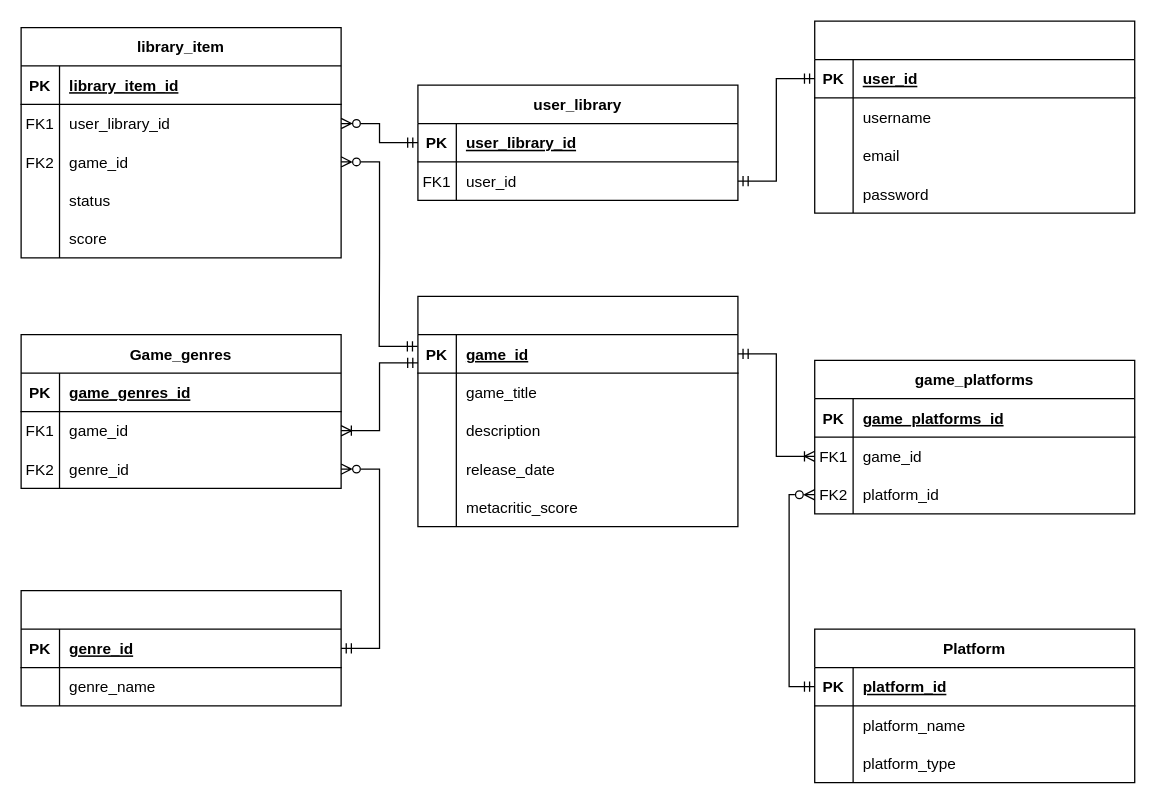
This 1156x804 diagram has some shape labels left out. The shapes that lost their labels are listed below. From the top down, each one's box as (x1, y1, x2, y2) in pixels, then its label:
(813, 20, 1135, 213): Users
(417, 295, 738, 527): Games
(20, 589, 341, 706): Genres
